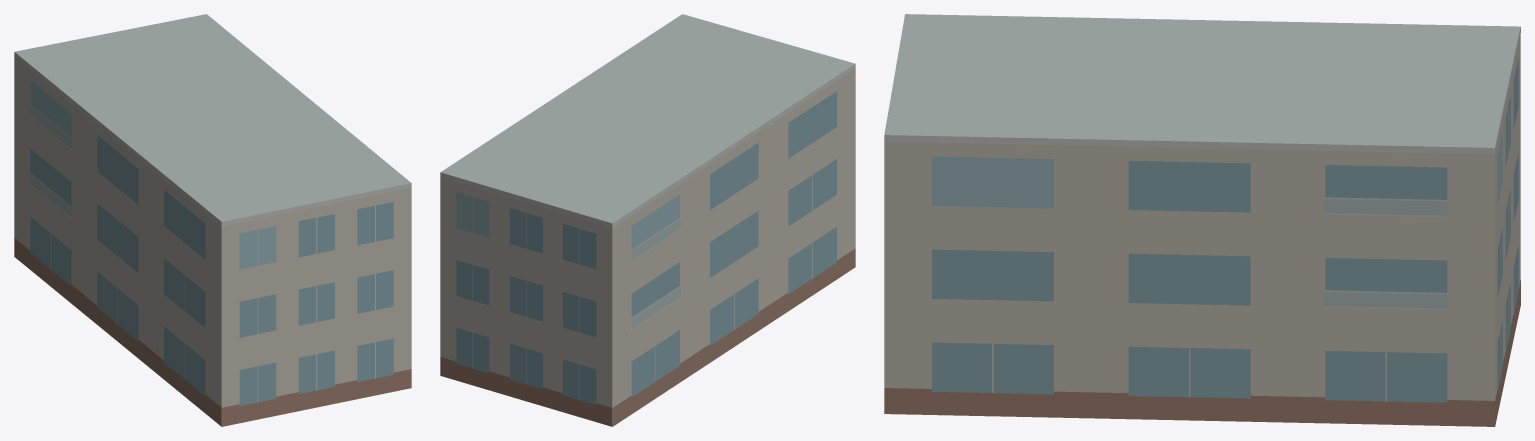
The model's file is survey-upis-32614257.glb.
3 views of the same model, side by side, from view 1: azimuth 30°, elevation 25°; view 2: azimuth 150°, elevation 25°; view 3: azimuth 270°, elevation 25° (orthographic). The views are drawn at different scales.
Parts seen in each view (by area): view 1: survey-upis-32614257.tmp; view 2: survey-upis-32614257.tmp; view 3: survey-upis-32614257.tmp.
Part boxes in pixels (left/top/right/bottom): survey-upis-32614257.tmp: left=14, top=14, right=411, bottom=426; survey-upis-32614257.tmp: left=440, top=14, right=855, bottom=426; survey-upis-32614257.tmp: left=884, top=14, right=1520, bottom=426.
Bounding box in the file's own units: 10.93 × 10.6 × 21.93.
